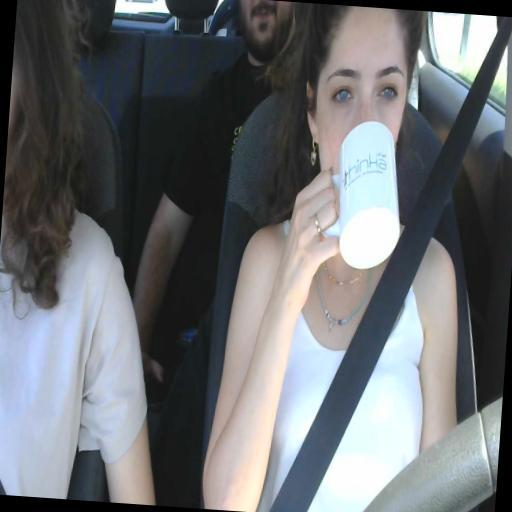Drinking: (293, 11, 406, 268)
